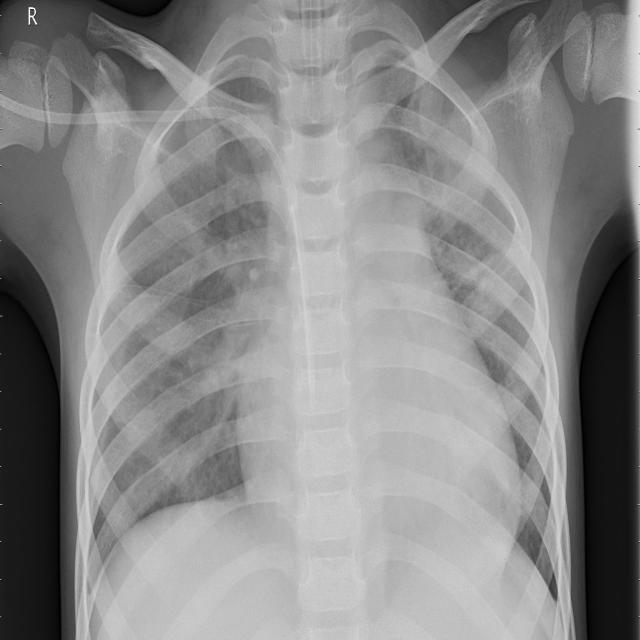low-pneumonia: (415, 113, 522, 304), (185, 230, 244, 437), (225, 95, 287, 250)
